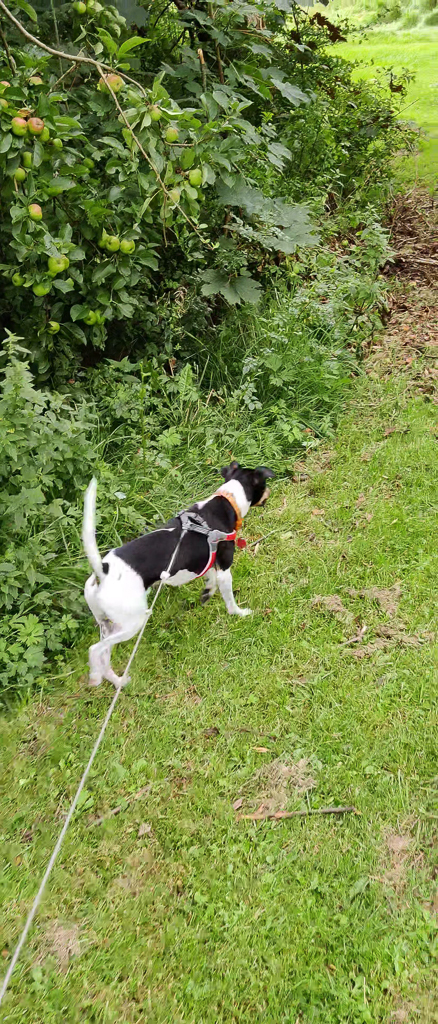Dog: (60, 442, 292, 704)
